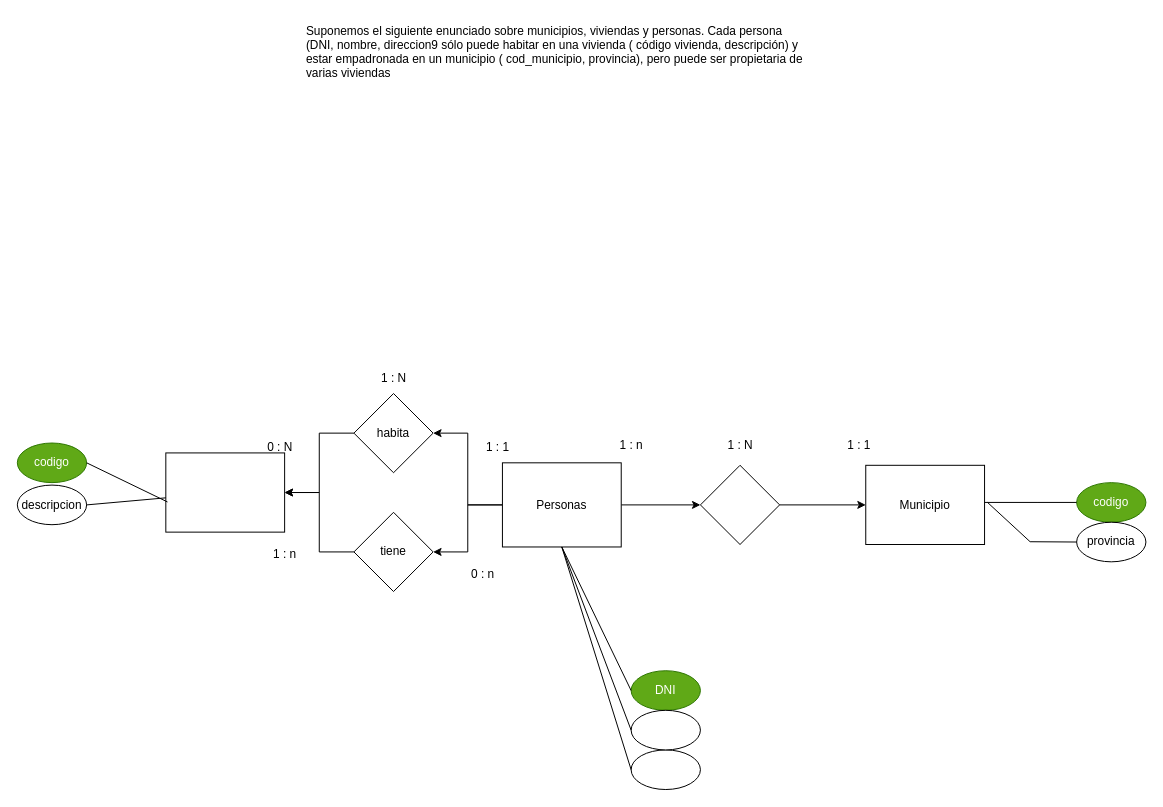
This 1163x807 diagram has some shape labels left out. Here are the shapes that lost their labels. From the top down, the centre of each, then its label:
pixel 225 492: Viviendas
pixel 739 504: empadronado
pixel 665 729: nombre
pixel 665 769: direccion
